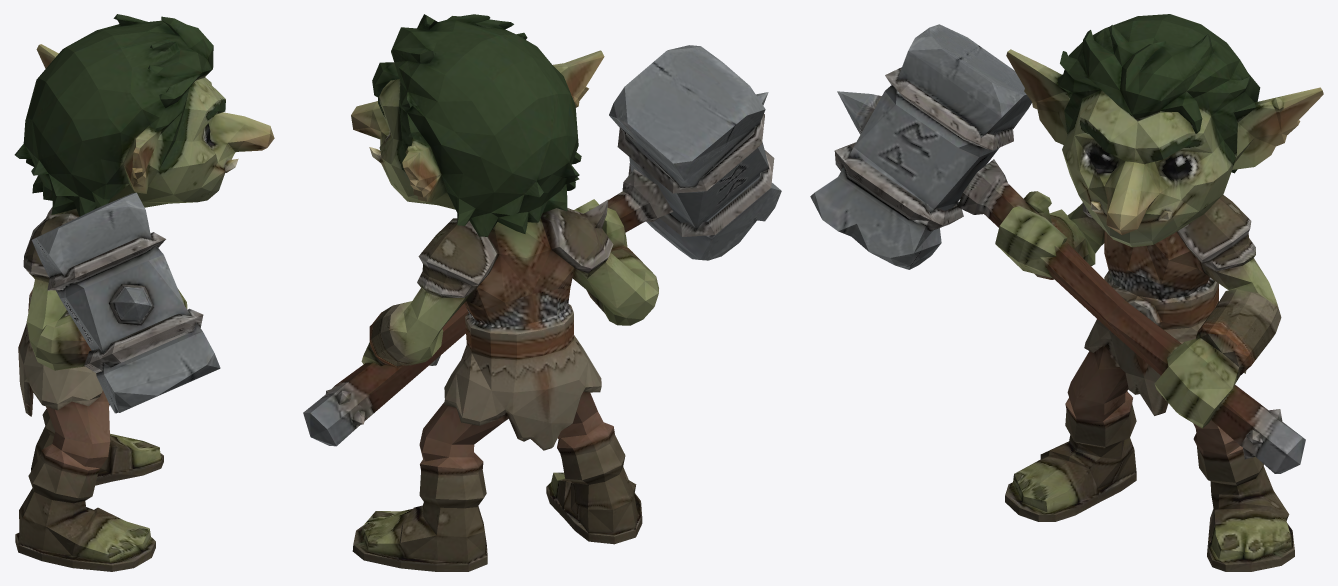
File: troll.glb
3 renders of one model, left to right at view 1: azimuth 30°, elevation 25°; view 2: azimuth 150°, elevation 25°; view 3: azimuth 270°, elevation 25°, orthographic. The views are drawn at different scales.
Parts seen in each view (by area): view 1: tripo_node_3a26c850-117b-485b-a759-5a76a6486718; view 2: tripo_node_3a26c850-117b-485b-a759-5a76a6486718; view 3: tripo_node_3a26c850-117b-485b-a759-5a76a6486718.
Part boxes in pixels (<box>): tripo_node_3a26c850-117b-485b-a759-5a76a6486718: <box>14,14,274,571</box>; tripo_node_3a26c850-117b-485b-a759-5a76a6486718: <box>303,14,781,571</box>; tripo_node_3a26c850-117b-485b-a759-5a76a6486718: <box>810,14,1323,571</box>.
Bounding box in the file's own units: 0.6855 × 0.998 × 0.9004.
Materials: 1 (1 with a texture image).
